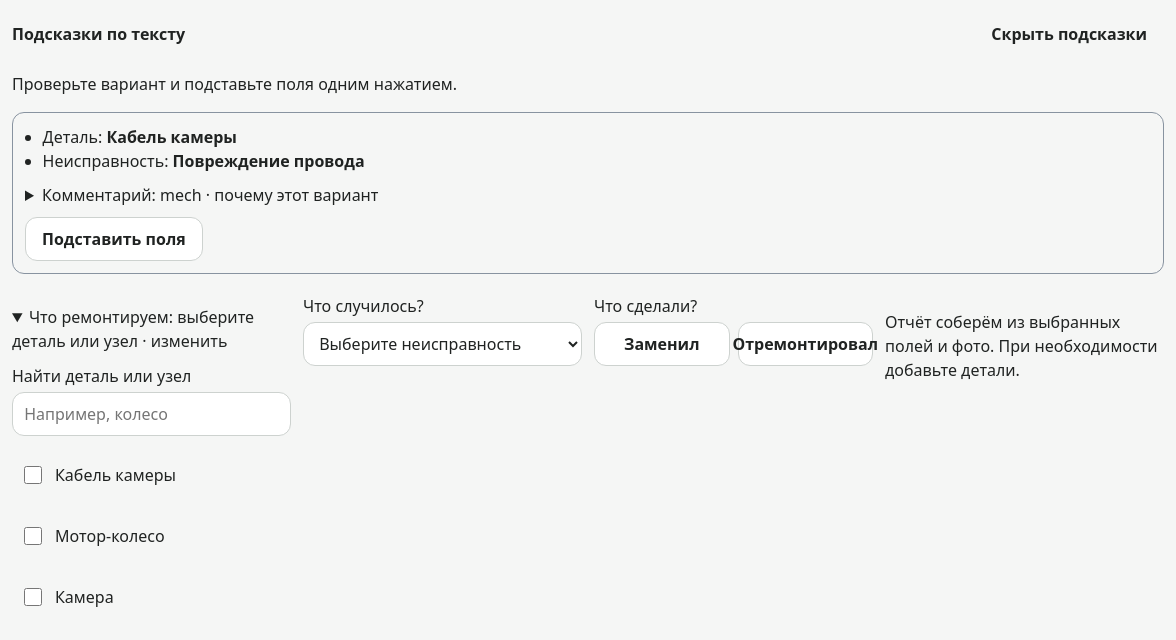
uses eligible comments for context but does not treat earlier comments as completed work
Check: the element "Подсказки по тексту" does not show "Заменил ·", box [12,12,1164,282]
Click the button "Подставить поля". click: click(114, 239)
box: [25,217,203,261]
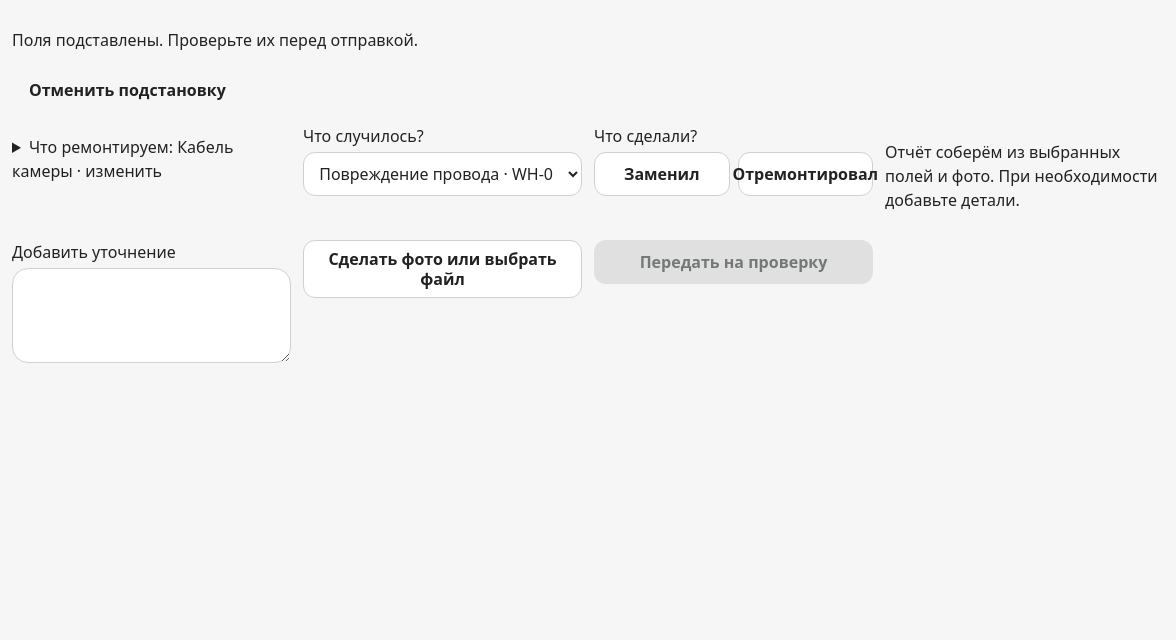
Check: the dropdown labelled "Что случилось?" shows "Повреждение провода · WH-05", box [303,152,582,196]
